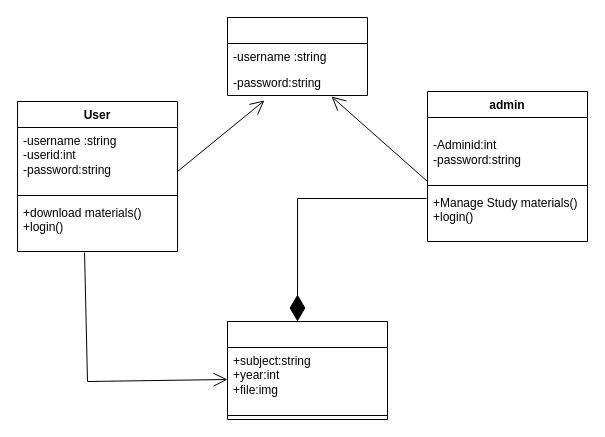
The diagram is 605 pixels wide and 437 high, and some of its shapes have lost their labels. Here are the shapes that lost their labels. From the top down, the box of each, then its label:
(226, 16, 368, 96): login
(226, 320, 388, 420): study Materials
